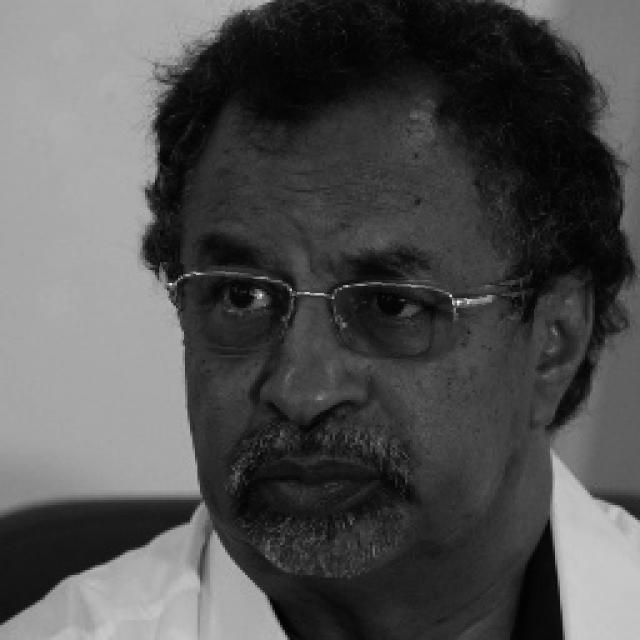glasses: (155, 268, 534, 364)
